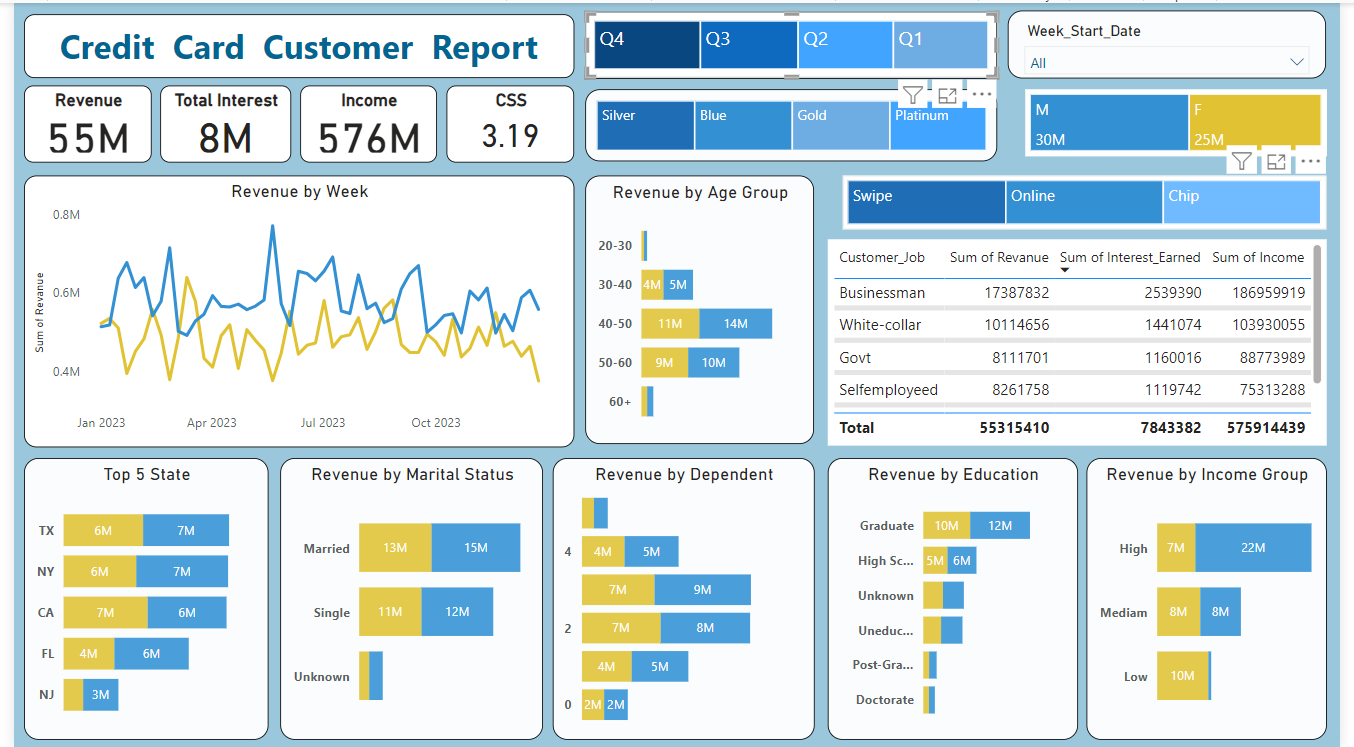

The dashboard page shown, as its layout file describes it:
{"tool":"powerbi","page":{"name":"Page 2","canvas":[1280,720],"ordinal":2},"visuals":[{"type":"textbox","box":[9.6,11,531,61.7],"z":0},{"type":"barChart","title":"Revenue by Income Group","fields":{"Y":["Sum(credit_card.Revanue)"],"Category":["customer.IncomeGroup"],"Series":["customer.Gender"]},"box":[1034.7,439.1,231.9,271.7],"z":1},{"type":"tableEx","fields":{"Values":["customer.Customer_Job","Sum(credit_card.Revanue)","Sum(credit_card.Interest_Earned)","Sum(customer.Income)"]},"box":[784.9,227.8,481.6,199],"z":3},{"type":"card","title":"Revenue","fields":{"Values":["Sum(credit_card.Revanue)"]},"box":[9.6,79.6,123.5,74.1],"z":4},{"type":"card","title":"Total Interest","fields":{"Values":["Sum(credit_card.Interest_Earned)"]},"box":[141.3,79.6,126.2,74.1],"z":5},{"type":"card","title":"Income","fields":{"Values":["Sum(customer.Income)"]},"box":[275.8,79.6,131.7,74.1],"z":6},{"type":"card","title":"CSS","fields":{"Values":["Avg(customer.Cust_Satisfaction_Score)"]},"box":[417.2,79.6,123.5,74.1],"z":7},{"type":"slicer","fields":{"Values":["credit_card.Week_Start_Date"]},"box":[959.2,6.9,307.4,65.9],"z":8},{"type":"treemap","fields":{"Group":["credit_card.Qtr"],"Values":["Avg(credit_card.Client_Num)"]},"box":[551.6,8.2,397.9,64.5],"z":9},{"type":"treemap","fields":{"Group":["credit_card.Card_Category"],"Values":["Avg(credit_card.Client_Num)"]},"box":[551.6,83.7,397.9,70],"z":11},{"type":"lineChart","title":"Revenue by Week","fields":{"Y":["Sum(credit_card.Revanue)"],"Series":["customer.Gender"],"Category":["credit_card.Week_Start_Date.Variation.Date Hierarchy.Year","credit_card.Week_Start_Date.Variation.Date Hierarchy.Month","credit_card.Week_Start_Date.Variation.Date Hierarchy.Day"]},"box":[9.6,166,531,262.1],"z":13},{"type":"treemap","fields":{"Group":["customer.Gender"],"Values":["Sum(credit_card.Revanue)"]},"box":[975.6,83.7,290.9,64.5],"z":14},{"type":"barChart","title":"Revenue by Age Group","fields":{"Y":["Sum(credit_card.Revanue)"],"Category":["customer.AgeGroup"],"Series":["customer.Gender"]},"box":[551.6,166,220.9,259.3],"z":15},{"type":"barChart","title":"Revenue by Education","fields":{"Y":["Sum(credit_card.Revanue)"],"Category":["customer.Education_Level"],"Series":["customer.Gender"]},"box":[784.9,439.1,241.5,271.7],"z":17},{"type":"barChart","title":"Top 5 State","fields":{"Y":["Sum(credit_card.Revanue)"],"Category":["customer.state_cd"],"Series":["customer.Gender"]},"box":[9.6,439.1,236,271.7],"z":18},{"type":"barChart","title":"Revenue by Dependent","fields":{"Y":["Sum(credit_card.Revanue)"],"Category":["customer.Dependent_Count"],"Series":["customer.Gender"]},"box":[520.1,439.1,252.5,271.7],"z":19},{"type":"barChart","title":"Revenue by Marital Status","fields":{"Y":["Sum(credit_card.Revanue)"],"Category":["customer.Marital_Status"],"Series":["customer.Gender"]},"box":[256.6,439.1,253.9,271.7],"z":20},{"type":"treemap","fields":{"Group":["credit_card.Use Chip"],"Values":["Avg(customer.Client_Num)"]},"box":[800,166,466.6,52.1],"z":21}]}

Visuals, with their boxes in screenshot pixels (x1, y1, x2, y2), scaled from the page's 1280x720 canvas onto the 1354x747 screenshot:
textbox: <box>10,11,572,75</box>
"Revenue by Income Group" barChart: <box>1095,456,1340,737</box>
tableEx - customer.Customer_Job x Sum(credit_card.Revanue): <box>830,236,1340,443</box>
"Revenue" card: <box>10,83,141,159</box>
"Total Interest" card: <box>149,83,283,159</box>
"Income" card: <box>292,83,431,159</box>
"CSS" card: <box>441,83,572,159</box>
slicer - credit_card.Week_Start_Date: <box>1015,7,1340,76</box>
treemap - credit_card.Qtr x Avg(credit_card.Client_Num): <box>583,9,1004,75</box>
treemap - credit_card.Card_Category x Avg(credit_card.Client_Num): <box>583,87,1004,159</box>
"Revenue by Week" lineChart: <box>10,172,572,444</box>
treemap - customer.Gender x Sum(credit_card.Revanue): <box>1032,87,1340,154</box>
"Revenue by Age Group" barChart: <box>583,172,817,441</box>
"Revenue by Education" barChart: <box>830,456,1086,737</box>
"Top 5 State" barChart: <box>10,456,260,737</box>
"Revenue by Dependent" barChart: <box>550,456,817,737</box>
"Revenue by Marital Status" barChart: <box>271,456,540,737</box>
treemap - credit_card.Use Chip x Avg(customer.Client_Num): <box>846,172,1340,226</box>
